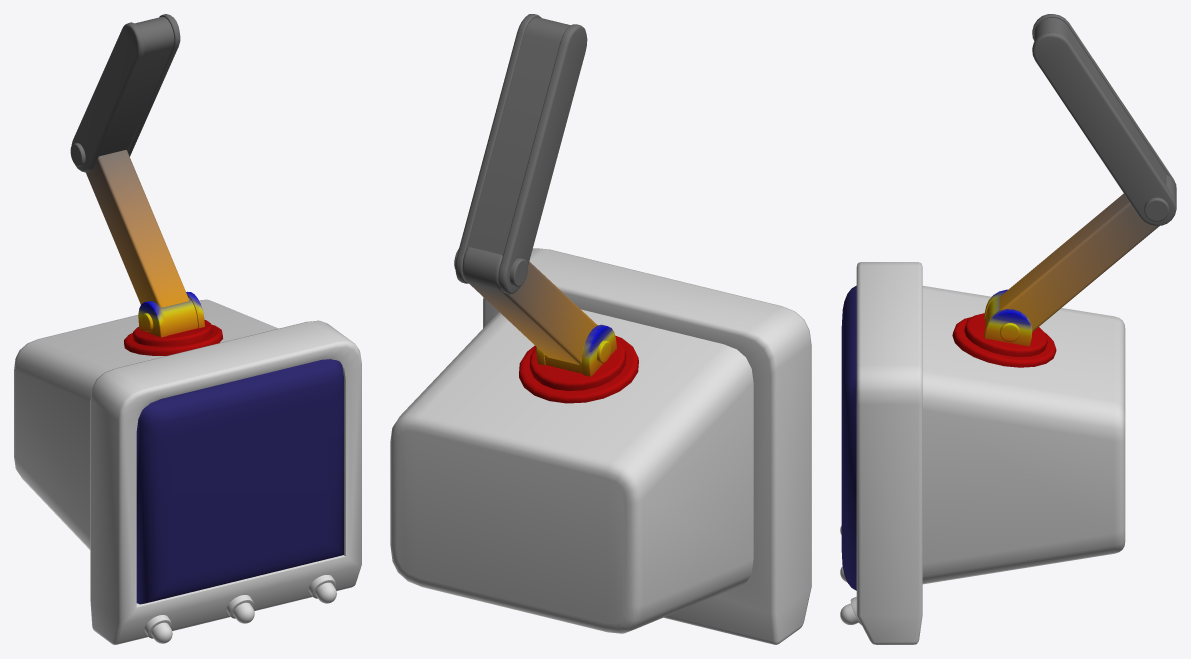
3 renders of one model, left to right at view 1: azimuth 30°, elevation 25°; view 2: azimuth 150°, elevation 25°; view 3: azimuth 270°, elevation 25°, orthographic. The views are drawn at different scales.
Parts seen in each view (by area): view 1: OBJ_TV; view 2: OBJ_TV; view 3: OBJ_TV.
Boxes of the visible parts, x1,y1,x2,y2 form: OBJ_TV: (14, 14, 361, 644); OBJ_TV: (390, 14, 811, 644); OBJ_TV: (841, 14, 1176, 644).
Bounding box in the file's own units: 42.71 × 89.79 × 48.77.
